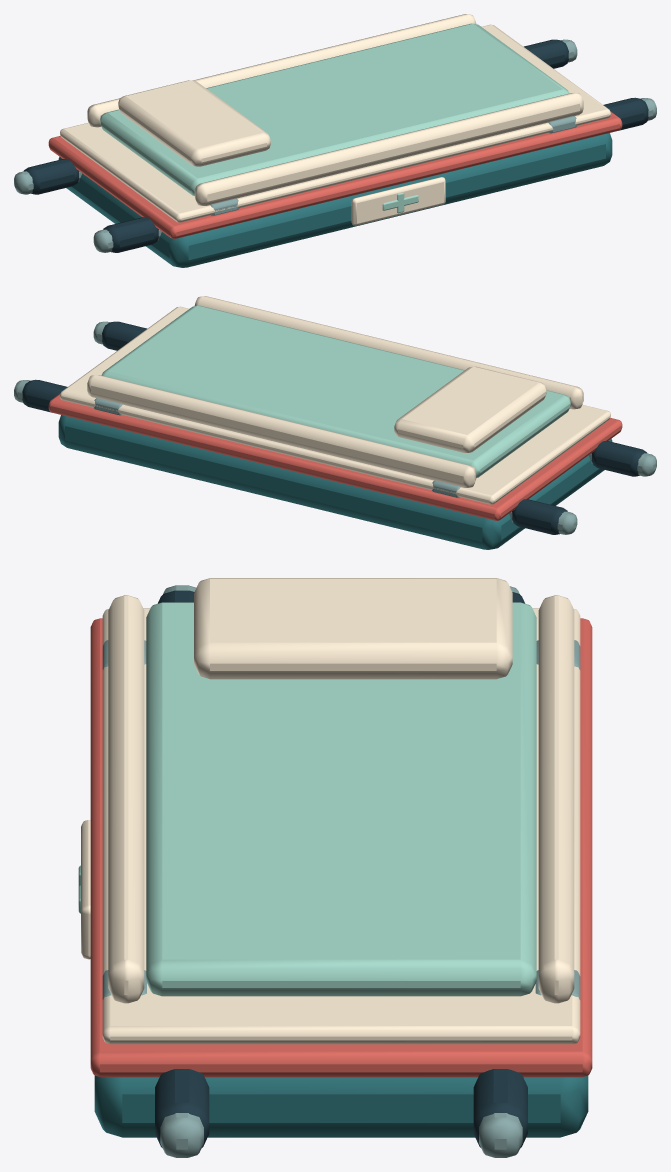
Rendered from transport-stretcher.glb.
3 views of the same model, one above another, from view 1: azimuth 30°, elevation 25°; view 2: azimuth 150°, elevation 25°; view 3: azimuth 270°, elevation 25° (orthographic). The views are drawn at different scales.
Parts seen in each view (by area): view 1: CeramicCream, MintCushion, DeepTeal, CoralEnamel, SlateRubber, BrushedMetal; view 2: CeramicCream, MintCushion, DeepTeal, CoralEnamel, SlateRubber, BrushedMetal; view 3: MintCushion, CeramicCream, CoralEnamel, DeepTeal, SlateRubber, BrushedMetal.
Part boxes in pixels (<box>): CeramicCream: <box>60,14,610,225</box>; MintCushion: <box>100,23,569,213</box>; DeepTeal: <box>58,133,612,267</box>; CoralEnamel: <box>48,111,622,238</box>; SlateRubber: <box>24,39,648,252</box>; BrushedMetal: <box>14,39,656,252</box>; CeramicCream: <box>60,296,610,504</box>; MintCushion: <box>101,305,570,477</box>; DeepTeal: <box>58,415,612,549</box>; CoralEnamel: <box>48,393,622,520</box>; SlateRubber: <box>22,321,646,534</box>; BrushedMetal: <box>14,321,656,534</box>; MintCushion: <box>78,602,536,996</box>; CeramicCream: <box>81,578,580,1044</box>; CoralEnamel: <box>90,618,592,1077</box>; DeepTeal: <box>94,1075,588,1137</box>; SlateRubber: <box>155,590,527,1148</box>; BrushedMetal: <box>102,585,580,1157</box>.
Size of the model in its own units: 1.62 by 0.26 by 0.645.
